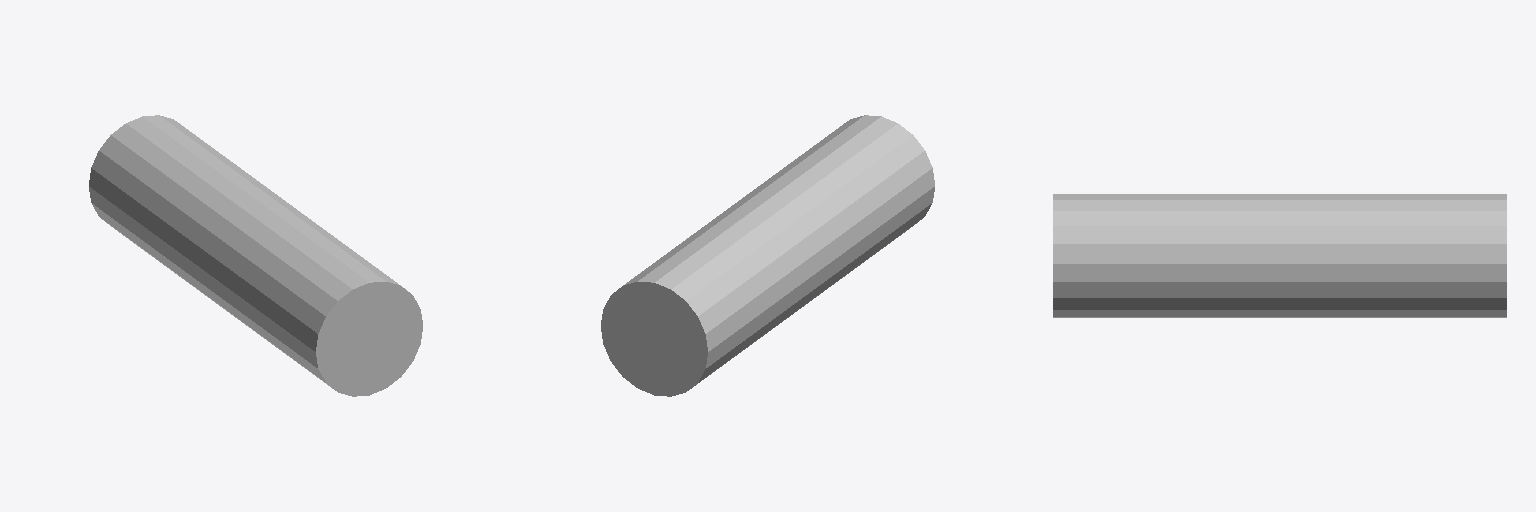
Rendered from Small_pipe_01.obj.
3 renders of one model, left to right at view 1: azimuth 30°, elevation 25°; view 2: azimuth 150°, elevation 25°; view 3: azimuth 270°, elevation 25°, orthographic.
Parts seen in each view (by area): view 1: Small_pipe_02; view 2: Small_pipe_02; view 3: Small_pipe_02.
Boxes of the visible parts, x1=… form: Small_pipe_02: x1=89, y1=115, x2=422, y2=396; Small_pipe_02: x1=601, y1=115, x2=934, y2=396; Small_pipe_02: x1=1053, y1=194, x2=1506, y2=317.
Size of the model in its own units: 22.05 by 22.05 by 80.52.